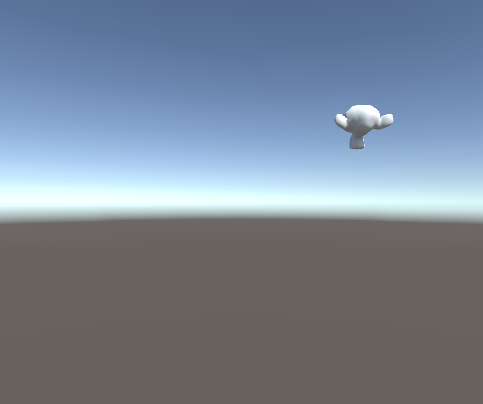monkey: (334, 103, 395, 151)
